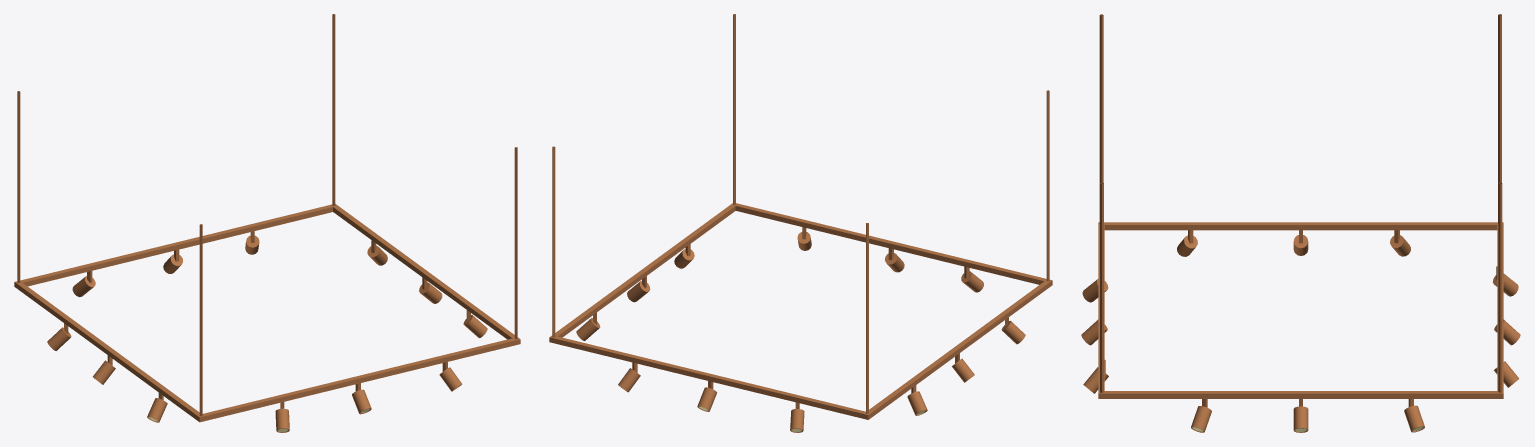
Rendered from spotlights_mesh.fbx.
3 renders of one model, left to right at view 1: azimuth 30°, elevation 25°; view 2: azimuth 150°, elevation 25°; view 3: azimuth 270°, elevation 25°, orthographic. The views are drawn at different scales.
Parts seen in each view (by area): view 1: spotlights; view 2: spotlights; view 3: spotlights.
Boxes of the visible parts, x1,y1,x2,y2 form: spotlights: (14,14,520,432); spotlights: (549,14,1052,432); spotlights: (1081,14,1520,432).
Size of the model in its own units: 3.9 by 2.4 by 3.9.
